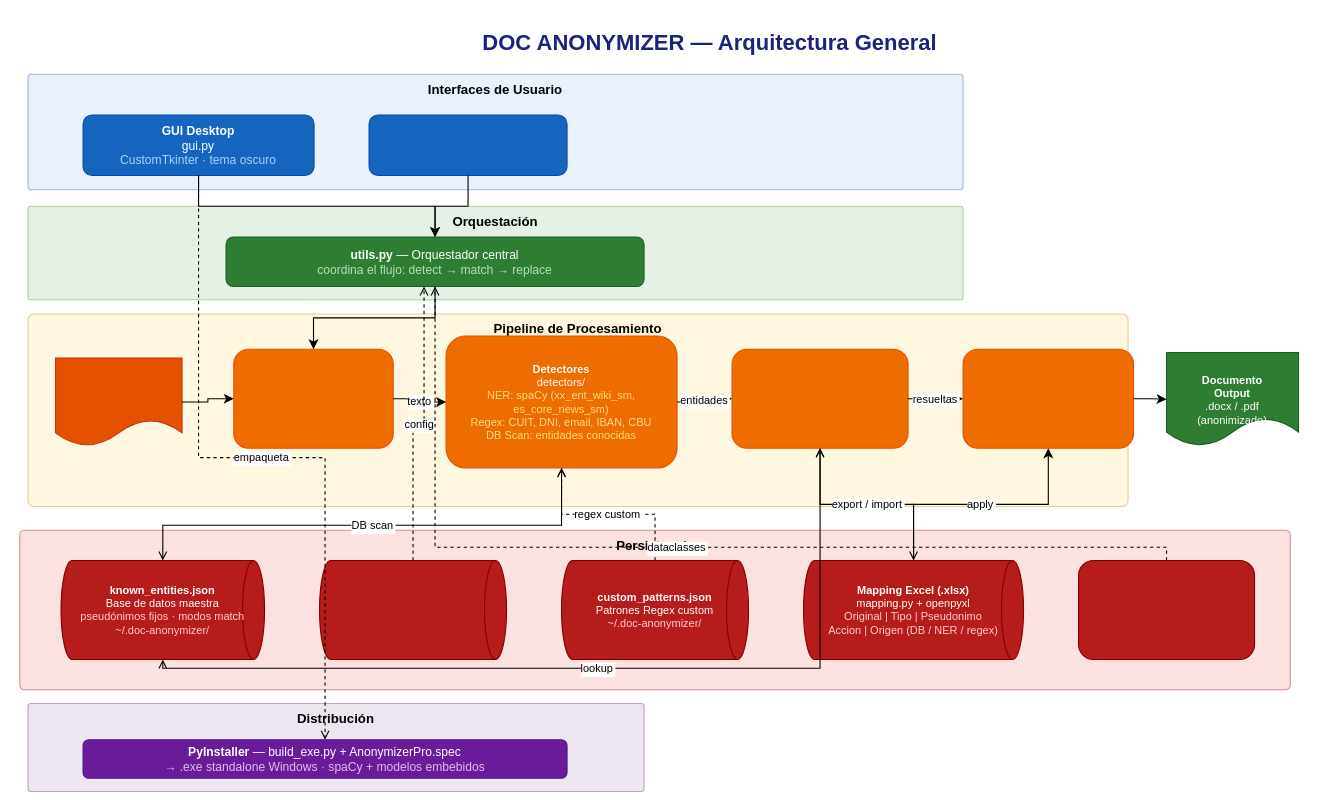
Image size: 1318x811. Some labels were removed from this diagram. Here are the shapes that lost their labels. From the top down, the centre of each, then its label:
At point 467,144: "CLI cli.py Typer + Rich".
At point 118,401: "Documento Input .docx / .pdf".
At point 313,398: "Extractores extractors/ python-docx pdfplumber".
At point 819,398: "Matcher matcher.py Exact match Fuzzy (rapidfuzz ≥85%)".
At point 1048,398: "Replacer replacer.py DOCX: python-docx PDF: reportlab".
At point 412,609: "settings.json Configuración operativa modelos NER · umbrales stopwords · rutas".
At point 1166,609: "models.py Entity · EntityType Document (dataclasses)".
